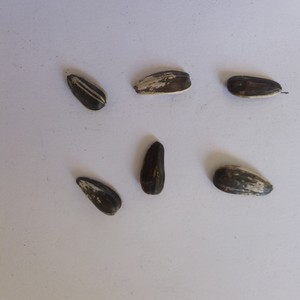girasol: (209, 162, 275, 200), (132, 66, 194, 104), (74, 174, 123, 220), (138, 139, 171, 200), (64, 72, 108, 112), (224, 74, 284, 100)
